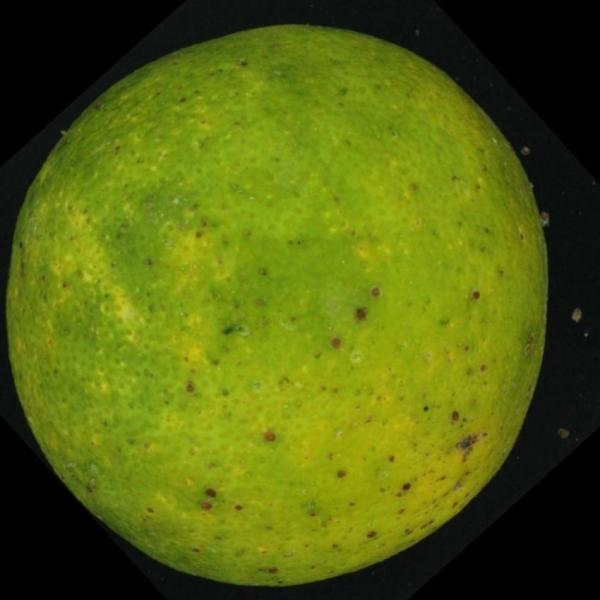Greening: (3, 2, 567, 592)
